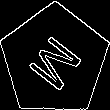M_SE: (22, 26, 88, 95)
